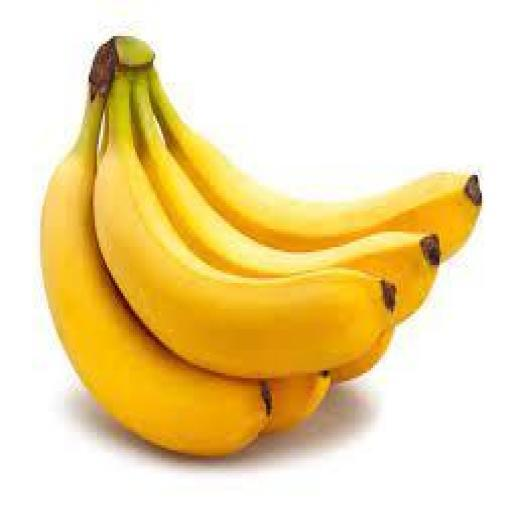banana: (43, 39, 270, 455), (95, 73, 395, 378), (134, 75, 441, 321), (150, 70, 481, 257)
